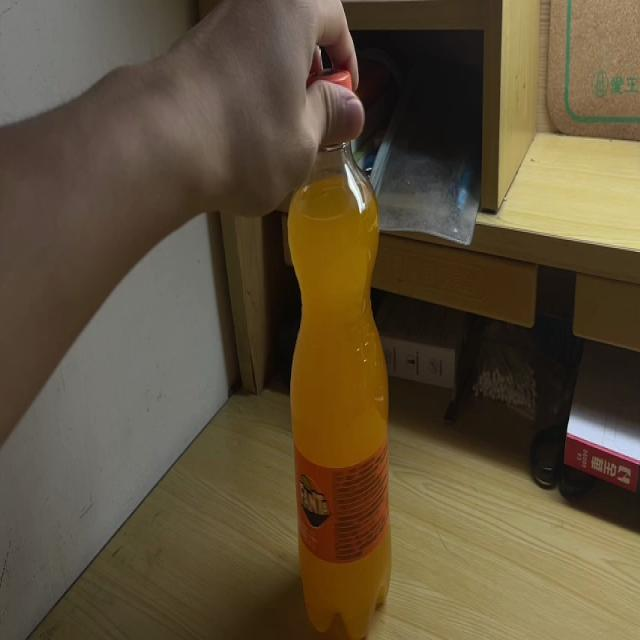Fanta: (286, 71, 393, 640)
